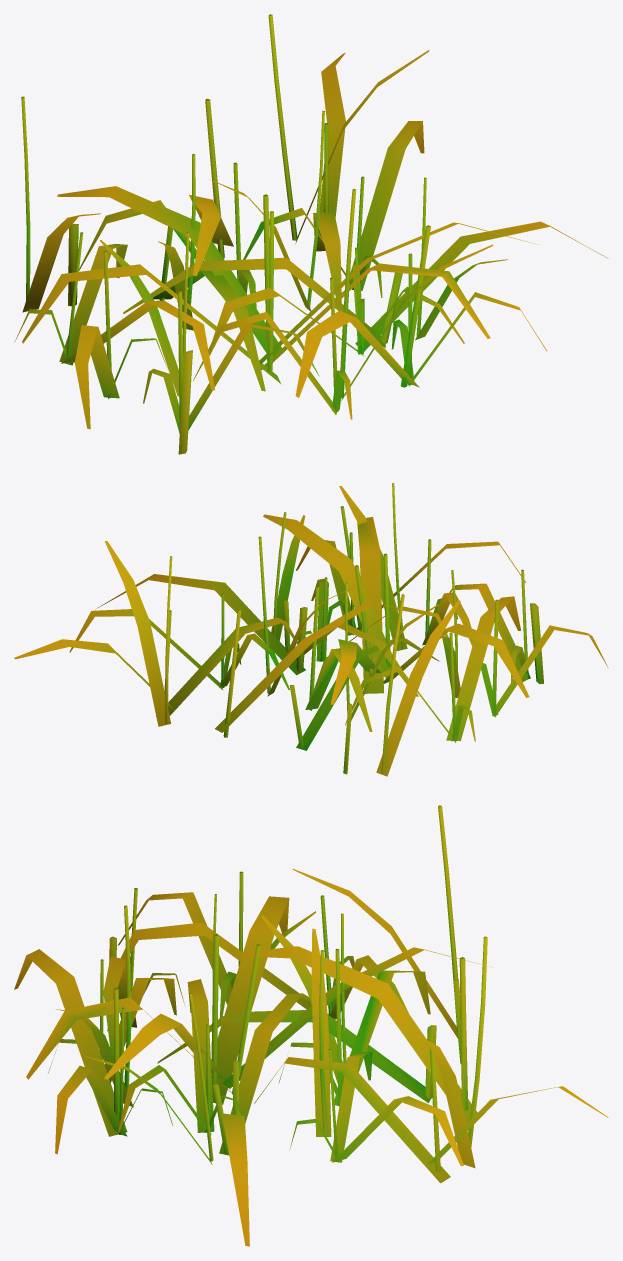
Rendered from SM_Oat_5.fbx.
The picture shows the model from 3 angles, top to bottom: view 1: azimuth 30°, elevation 25°; view 2: azimuth 150°, elevation 25°; view 3: azimuth 270°, elevation 25°; orthographic projection. The views are drawn at different scales.
Visible parts, largest first — view 1: SM_Oat_5; view 2: SM_Oat_5; view 3: SM_Oat_5.
Part boxes in pixels (x1=…): SM_Oat_5: x1=14, y1=14, x2=608, y2=454; SM_Oat_5: x1=14, y1=483, x2=608, y2=776; SM_Oat_5: x1=14, y1=805, x2=608, y2=1246.
Bounding box in the file's own units: 1.72 × 0.6551 × 1.53.
